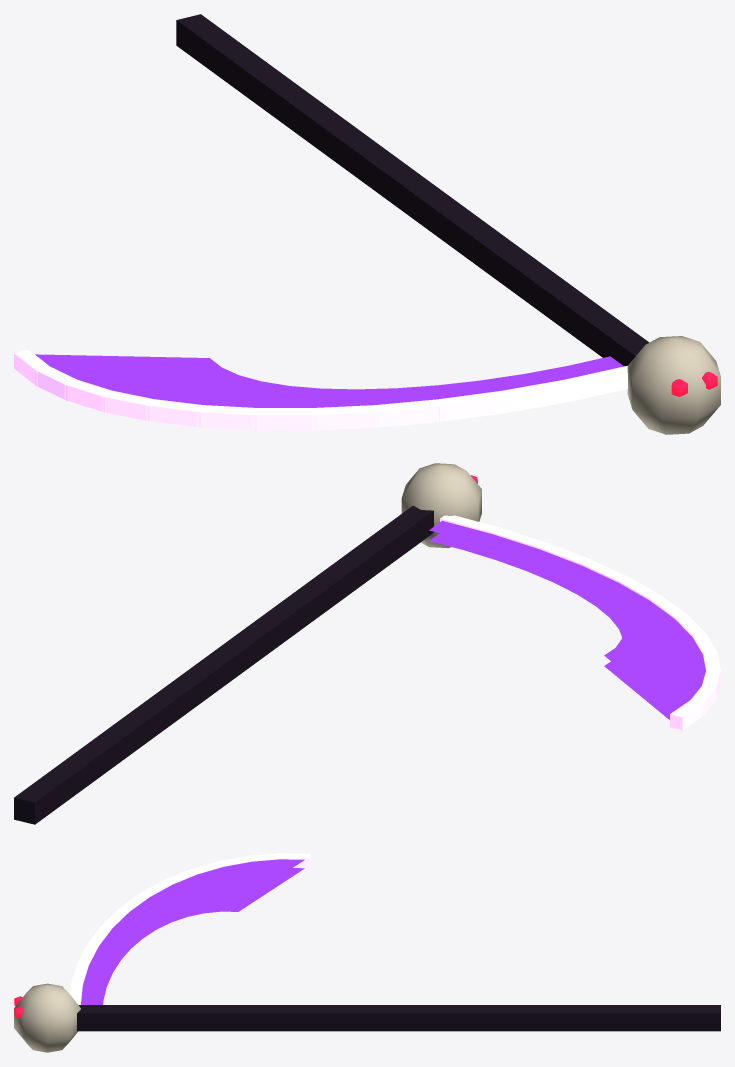
Rendered from w_reaper.glb.
3 views of the same model, one above another, from view 1: azimuth 30°, elevation 25°; view 2: azimuth 150°, elevation 25°; view 3: azimuth 270°, elevation 25° (orthographic). The views are drawn at different scales.
Visible parts, largest first — view 1: w_reaper_shaft, w_reaper_edge, w_reaper_blade, w_reaper_skull; view 2: w_reaper_shaft, w_reaper_blade, w_reaper_edge, w_reaper_skull; view 3: w_reaper_shaft, w_reaper_blade, w_reaper_skull, w_reaper_edge.
Part boxes in pixels (x1,y1,x2,y2): w_reaper_shaft: (176, 14, 648, 366); w_reaper_edge: (14, 350, 627, 430); w_reaper_blade: (35, 354, 623, 407); w_reaper_skull: (627, 336, 720, 434); w_reaper_shaft: (14, 505, 433, 824); w_reaper_blade: (429, 520, 705, 719); w_reaper_edge: (440, 515, 720, 730); w_reaper_skull: (401, 463, 481, 548); w_reaper_shaft: (77, 1005, 720, 1031); w_reaper_blade: (81, 859, 304, 1004); w_reaper_skull: (14, 983, 80, 1052); w_reaper_edge: (70, 853, 311, 1004).
Bounding box in the file's own units: 1.05 × 0.18 × 1.81.
